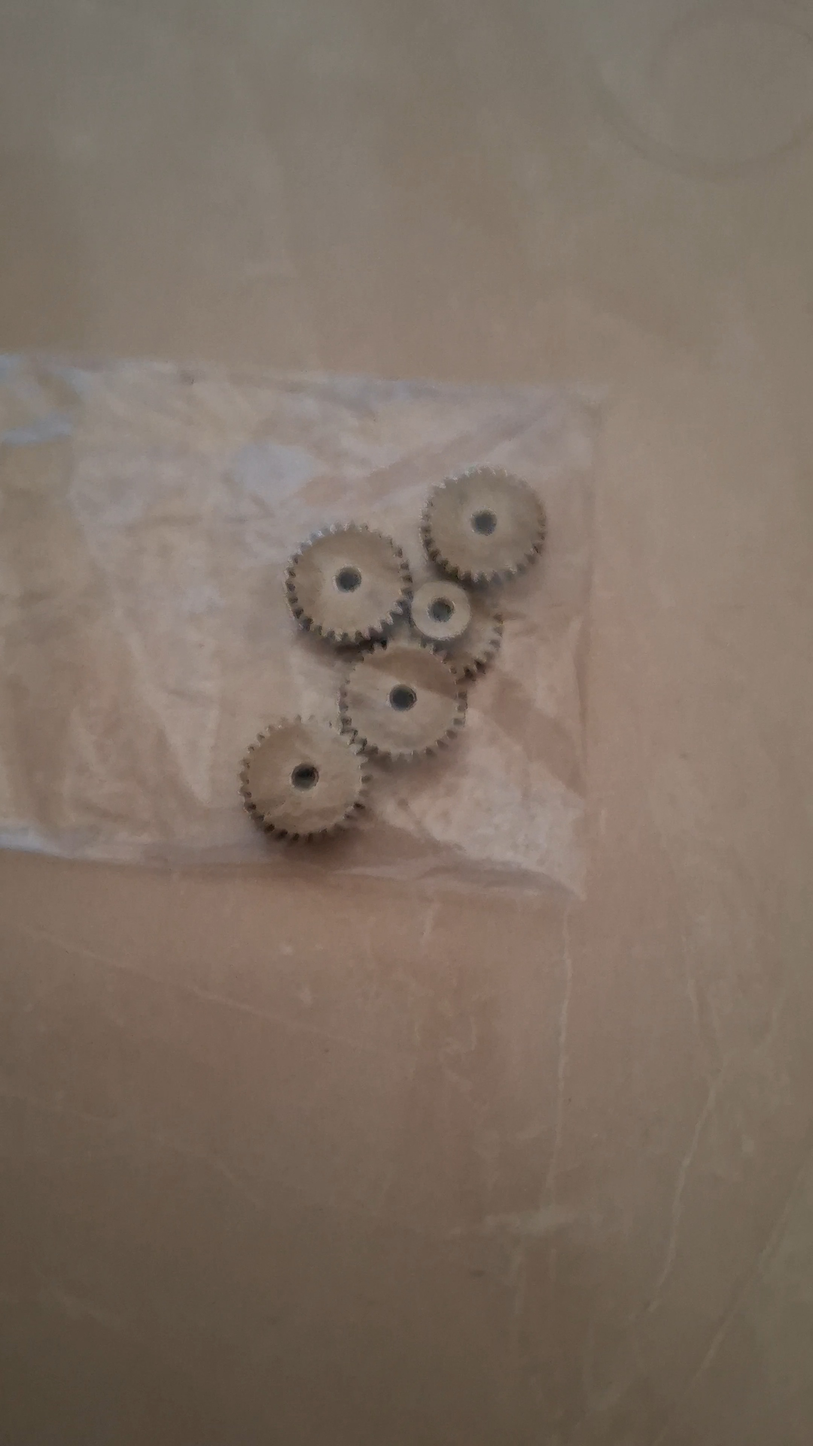spur gear: (240, 717, 367, 839), (286, 523, 411, 645), (340, 639, 466, 758), (421, 467, 545, 584), (410, 578, 502, 678)
